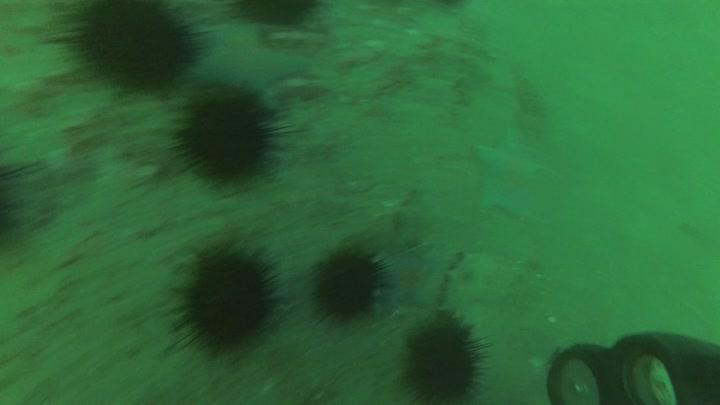urchin: (62, 1, 196, 83), (187, 245, 278, 361), (180, 95, 271, 192), (402, 313, 478, 393), (315, 246, 393, 323), (1, 163, 32, 246), (226, 2, 311, 20)
